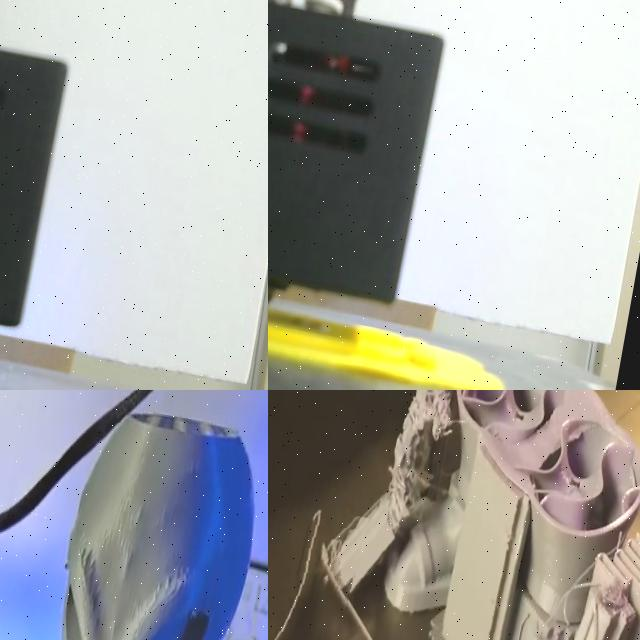spaghetti: (268, 501, 369, 640), (507, 550, 640, 640), (418, 390, 465, 445)
